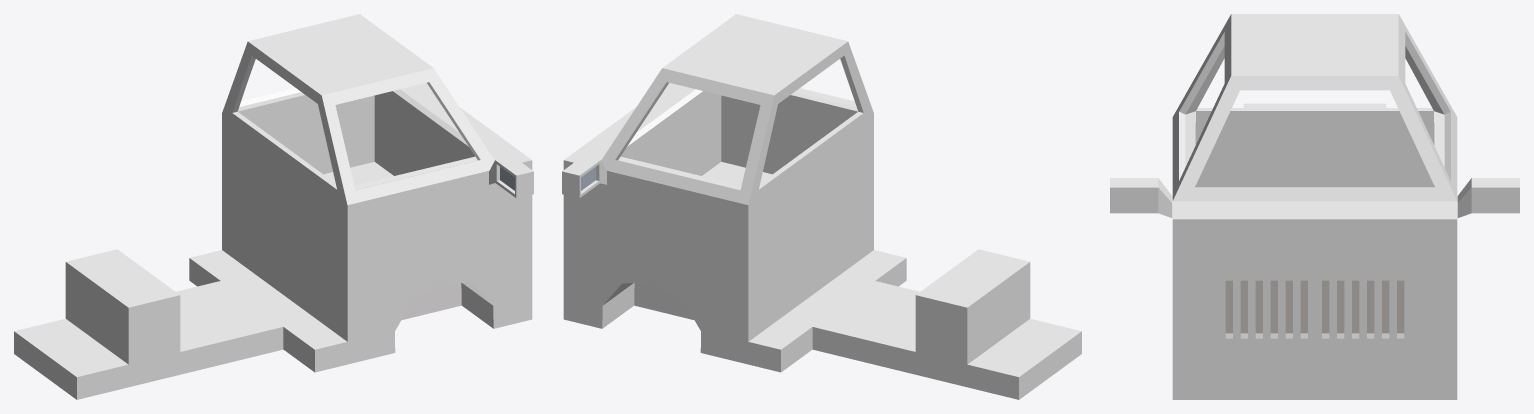
Rendered from Car.glb.
3 renders of one model, left to right at view 1: azimuth 30°, elevation 25°; view 2: azimuth 150°, elevation 25°; view 3: azimuth 270°, elevation 25°, orthographic. The views are drawn at different scales.
Parts seen in each view (by area): view 1: Cube.072; view 2: Cube.072; view 3: Cube.072.
Boxes of the visible parts, box(x1,y1,x2,y2) form: Cube.072: box(14, 14, 533, 399); Cube.072: box(562, 14, 1081, 399); Cube.072: box(1110, 14, 1519, 399).
Bounding box in the file's own units: 0.1258 × 0.0709 × 0.0929.
Materials: 1 (1 with a texture image).
